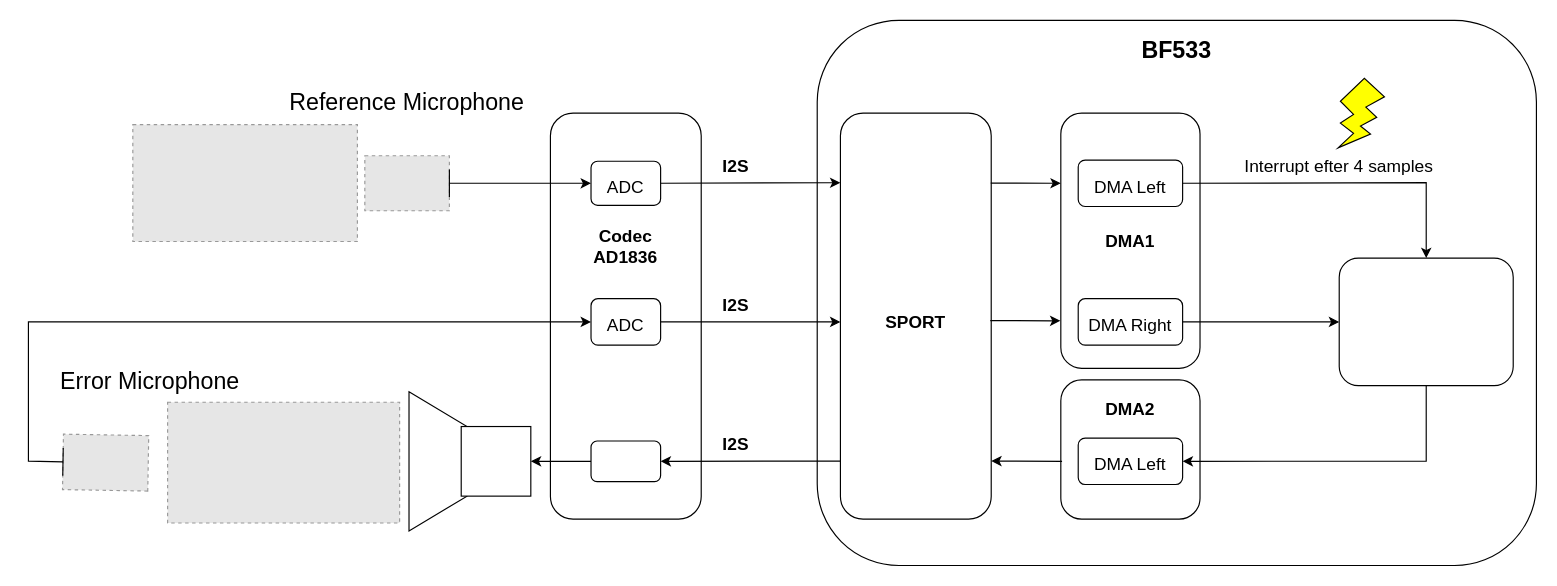
This 1557x586 diagram has some shape labels left out. Grey dashed boxes stand in for pictures. The centre of each missing label's shape, as x and y in pixels:
"DAC" goes at point 625,461.
"Process" goes at point 1425,321.
